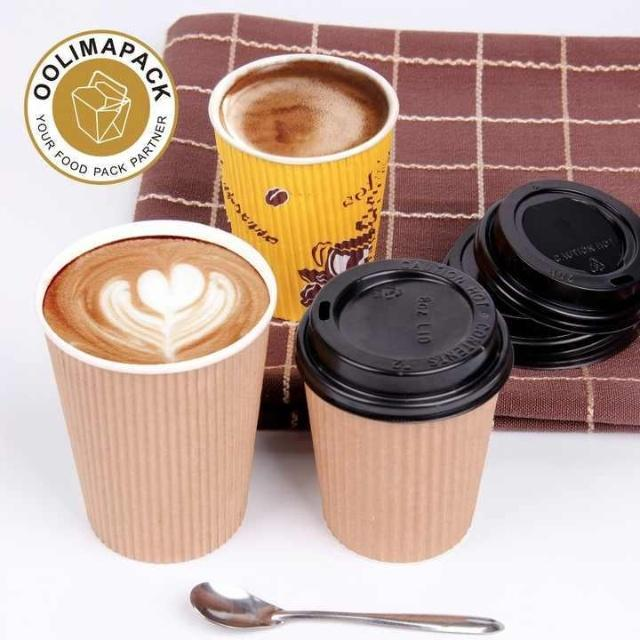paper_cup: (13, 206, 291, 580), (294, 232, 536, 572), (195, 36, 424, 319)
